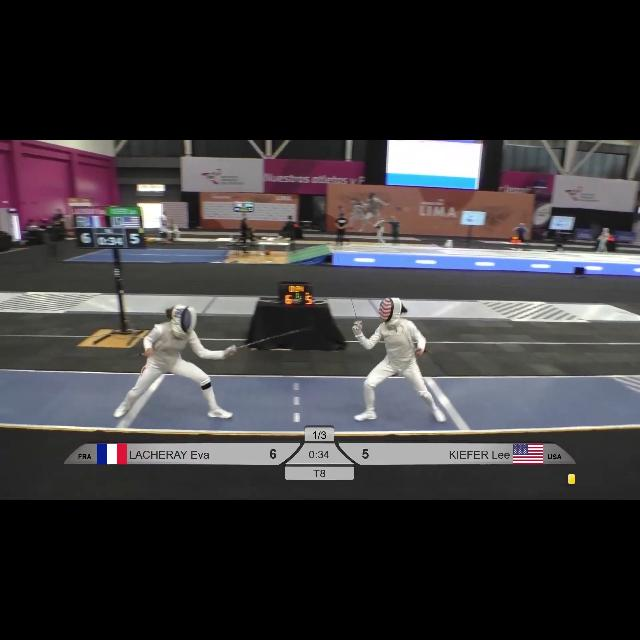blade: (332, 245, 363, 328), (230, 328, 300, 354)
